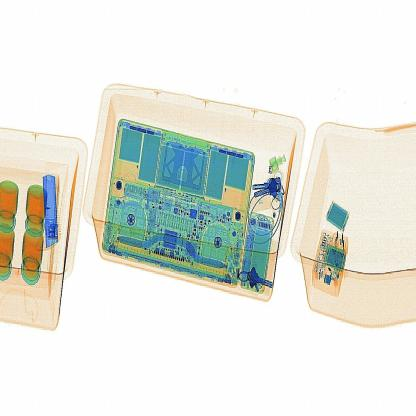pliers: (35, 160, 69, 252)
